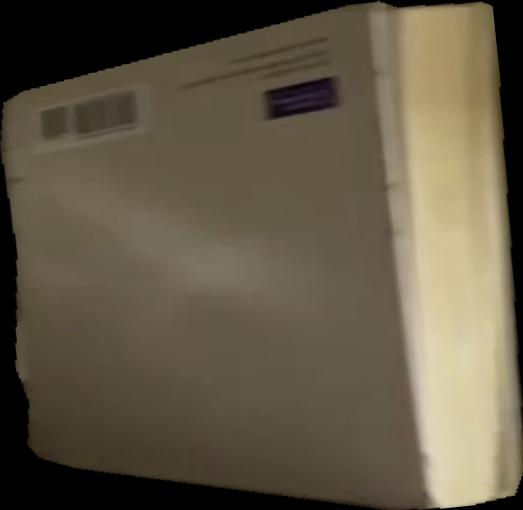backward: (1, 1, 523, 510)
